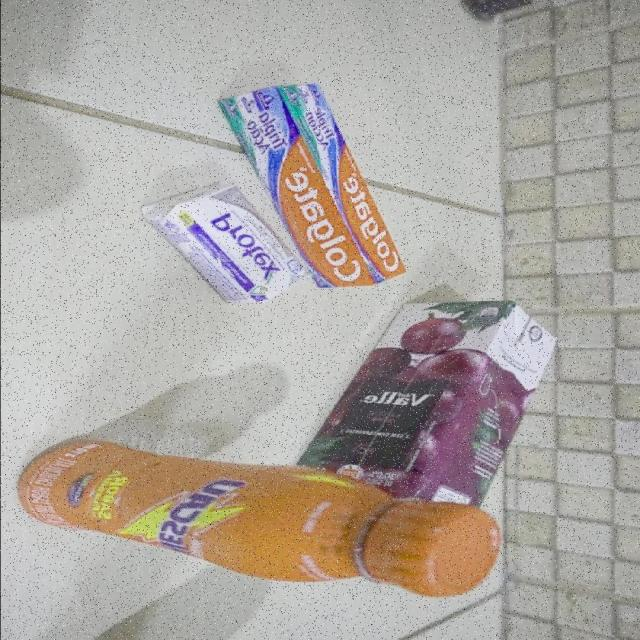ChocolateMilk: (16, 439, 504, 601), (14, 438, 507, 598)
Soap: (138, 181, 312, 303), (134, 185, 313, 303)
Toothpaste: (212, 82, 407, 288), (225, 83, 410, 290)
